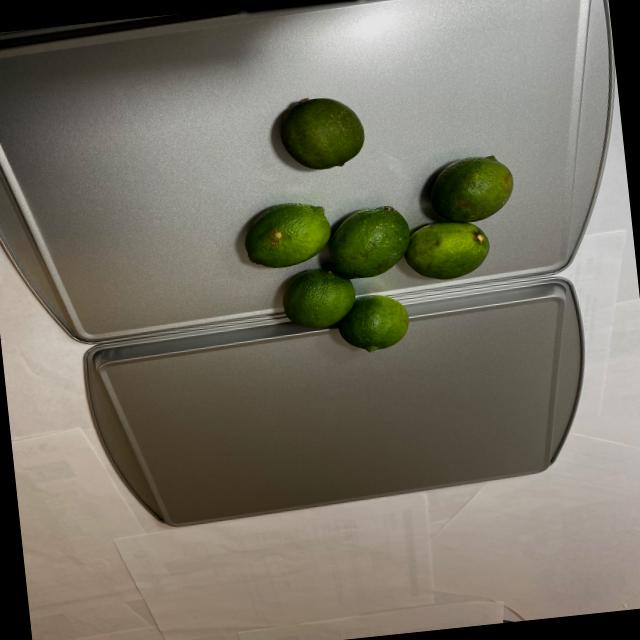lemon: (224, 74, 534, 366)
